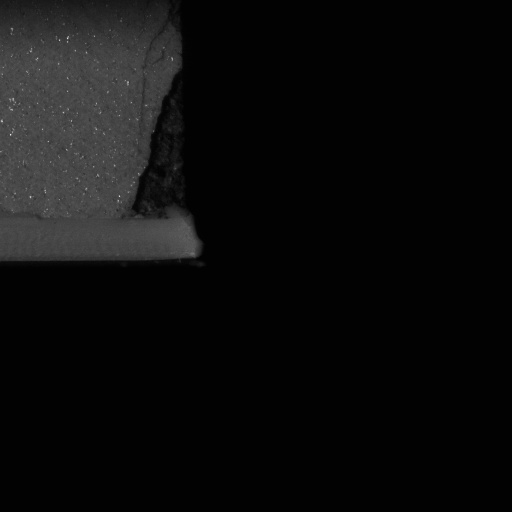bengque: (127, 73, 194, 225)
